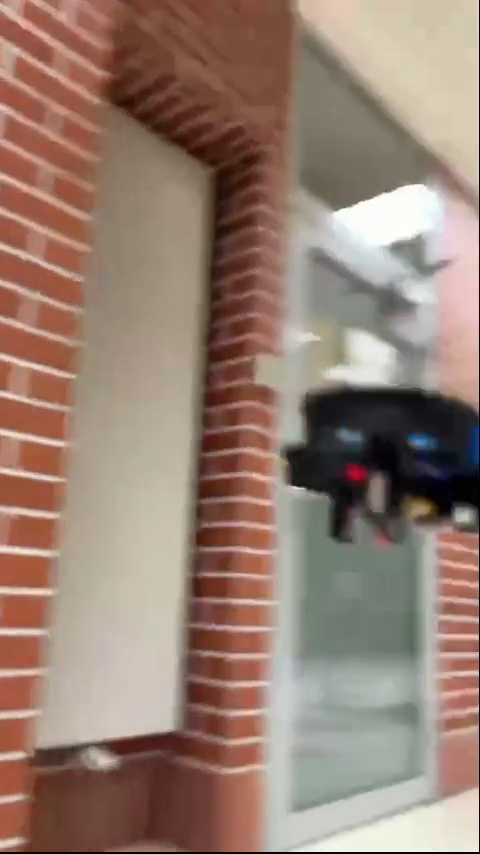drone: (277, 389, 480, 557)
